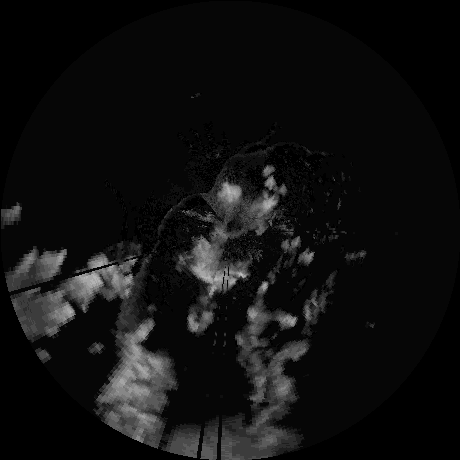frontgust: (142, 191, 207, 267), (210, 149, 270, 191)
